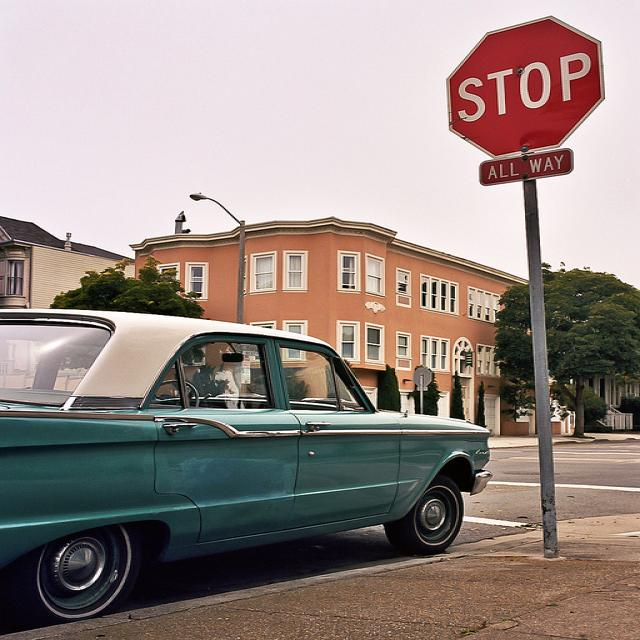Vehicle: (4, 311, 489, 617)
